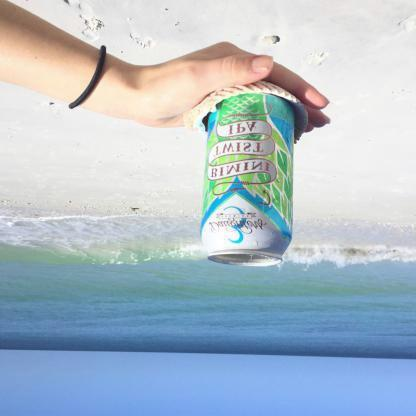Metal: (196, 95, 300, 270)
